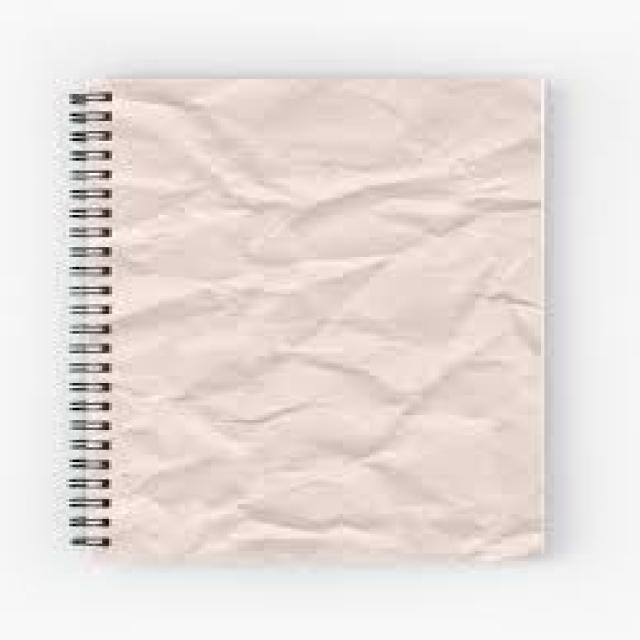paper: (86, 74, 551, 554)
